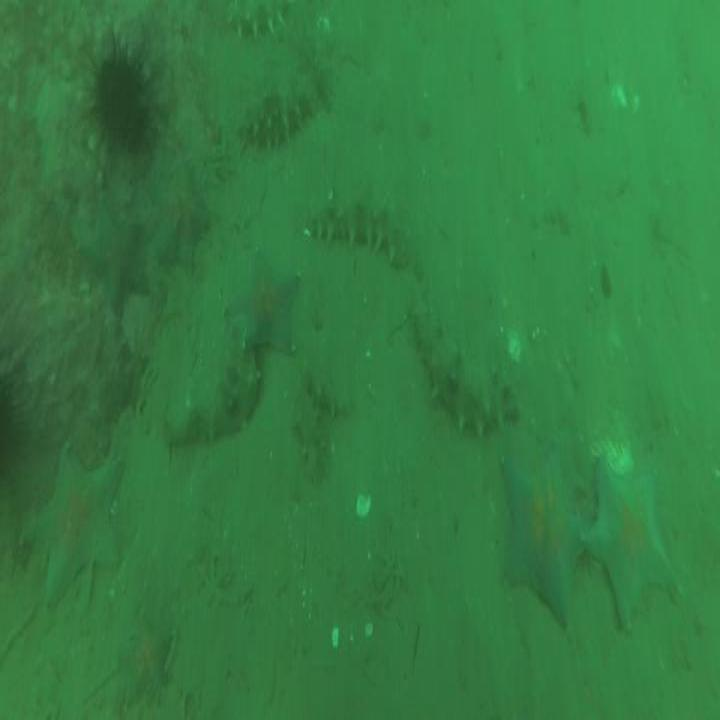echinus: (93, 59, 147, 160)
holothurian: (411, 297, 513, 435), (163, 361, 262, 444), (308, 192, 405, 265), (235, 71, 316, 155), (293, 363, 348, 474), (228, 3, 289, 41)
starfish: (581, 446, 675, 626), (21, 443, 121, 606), (501, 450, 584, 631), (226, 247, 300, 354), (75, 206, 148, 306), (151, 180, 210, 279), (117, 614, 172, 700)
